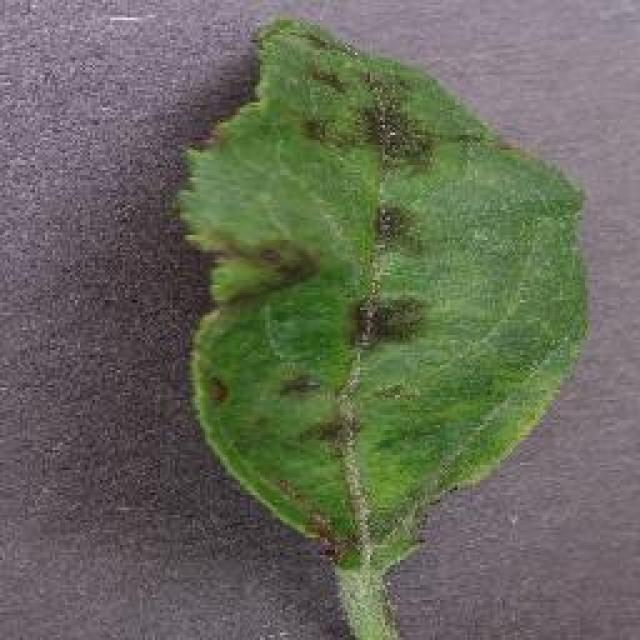apple scab disease: (172, 12, 592, 638)
